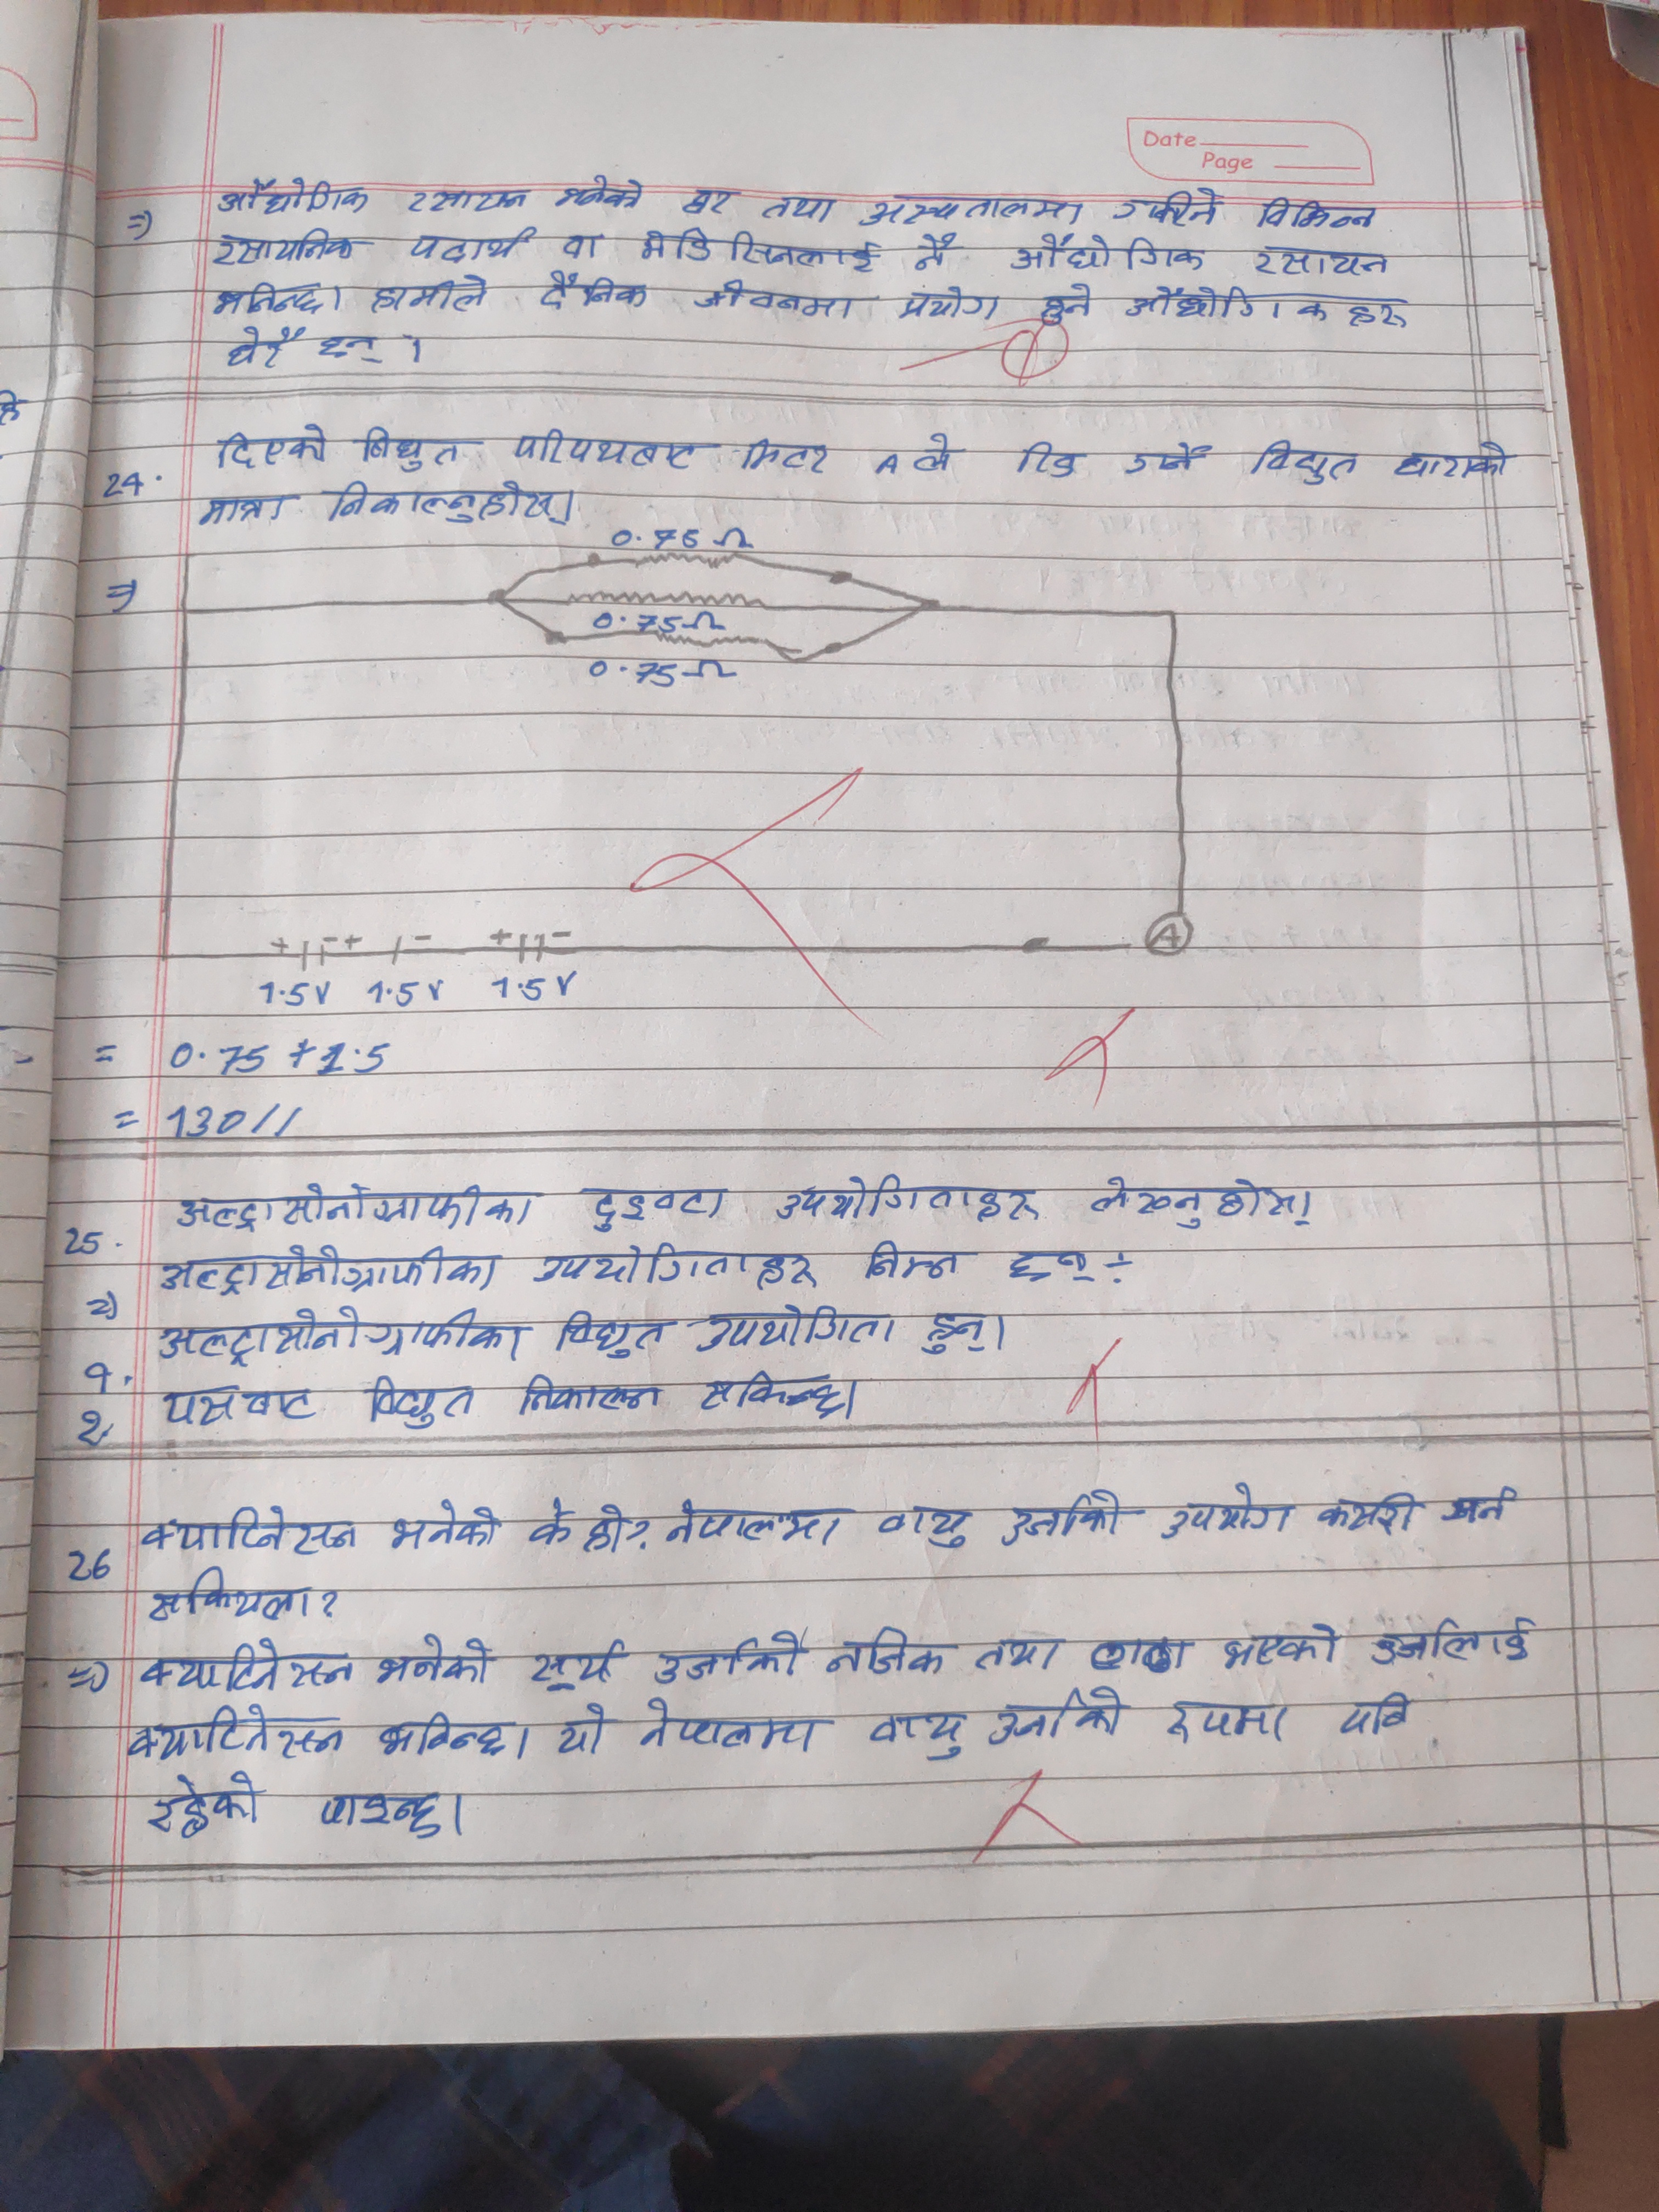text: (157, 1308, 530, 1362), (157, 1240, 507, 1296), (169, 1181, 545, 1230), (772, 1177, 1044, 1230), (1124, 282, 1406, 331), (530, 1245, 821, 1291), (138, 1503, 362, 1561), (136, 1637, 362, 1693), (125, 1705, 345, 1763), (1086, 1176, 1312, 1230), (322, 479, 566, 526), (634, 230, 875, 277), (640, 1695, 819, 1756), (141, 1566, 312, 1629), (692, 1301, 903, 1350), (659, 1498, 847, 1552), (985, 1689, 1131, 1752), (856, 192, 1084, 232), (1371, 1616, 1546, 1669), (690, 279, 875, 327), (141, 1770, 263, 1843), (509, 428, 702, 474), (1159, 1482, 1298, 1545), (653, 1630, 805, 1688), (1007, 232, 1215, 273), (579, 1179, 732, 1235), (999, 1489, 1134, 1548), (512, 1369, 664, 1421), (697, 1369, 847, 1421), (1159, 1693, 1291, 1749), (375, 1709, 509, 1763), (375, 1635, 497, 1695), (319, 1787, 448, 1843), (160, 1388, 315, 1432), (385, 1498, 502, 1555), (1218, 1620, 1344, 1672), (213, 176, 369, 216), (356, 421, 469, 475), (211, 228, 362, 268), (547, 1308, 667, 1359), (824, 1629, 948, 1677), (1253, 437, 1363, 491), (366, 1376, 477, 1428), (870, 1709, 974, 1764), (528, 1639, 626, 1696), (1394, 439, 1513, 486), (368, 272, 491, 315), (1253, 192, 1378, 233), (213, 427, 333, 470), (211, 277, 329, 320), (1314, 1493, 1427, 1538), (1114, 185, 1222, 232), (1249, 244, 1394, 279), (410, 226, 540, 265), (538, 270, 653, 314), (859, 1238, 965, 1285), (1086, 1632, 1188, 1677), (896, 284, 1004, 326), (1335, 1689, 1420, 1742), (735, 437, 842, 479), (875, 1498, 972, 1543), (1002, 1244, 1093, 1289), (401, 183, 528, 214), (220, 326, 310, 369), (1122, 437, 1215, 479), (1439, 1482, 1523, 1527), (974, 1635, 1066, 1676), (918, 1310, 993, 1359), (551, 176, 645, 212), (552, 1702, 613, 1757), (523, 1498, 580, 1555), (195, 493, 296, 524), (1014, 441, 1084, 482), (582, 1505, 629, 1562), (760, 193, 836, 228), (911, 430, 964, 481), (1037, 280, 1094, 326), (317, 329, 389, 362), (906, 235, 964, 272), (678, 186, 741, 218), (559, 232, 605, 268)
